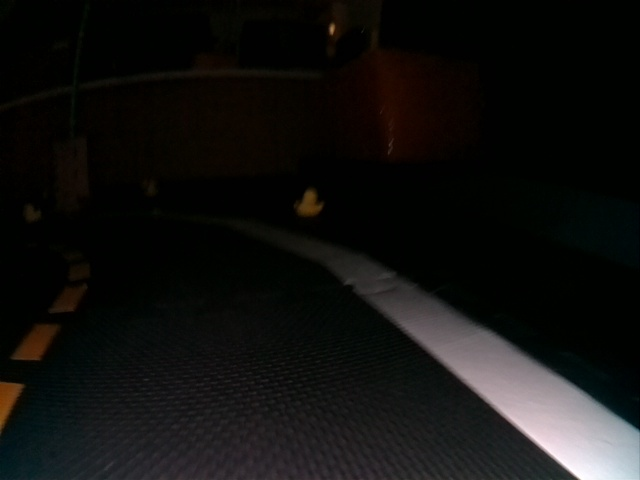Duckie: (297, 189, 322, 216), (29, 205, 40, 221), (146, 181, 155, 195)
